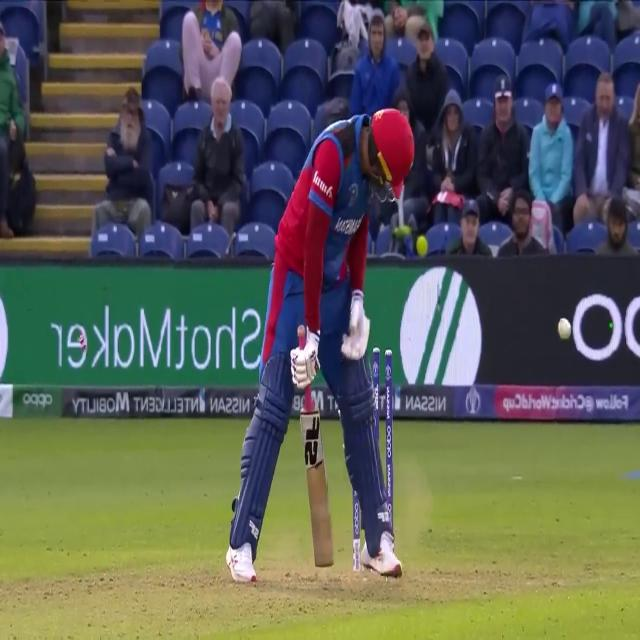ball: (557, 316, 572, 342)
